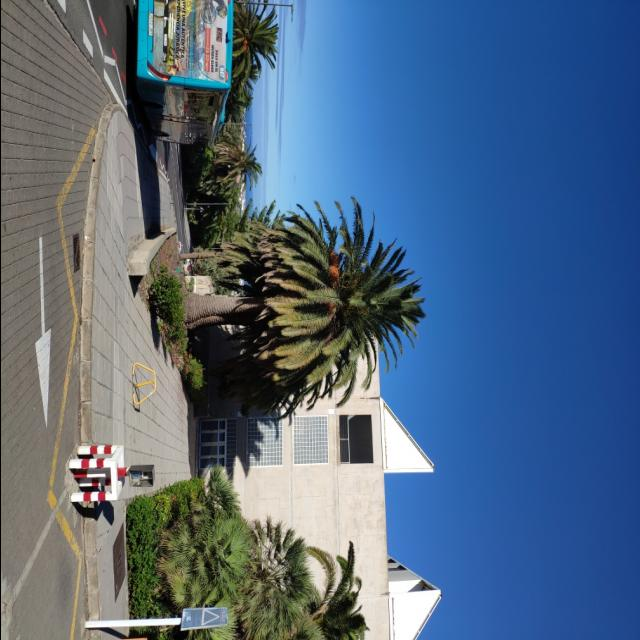Palm-Trees: (180, 220, 418, 406)
